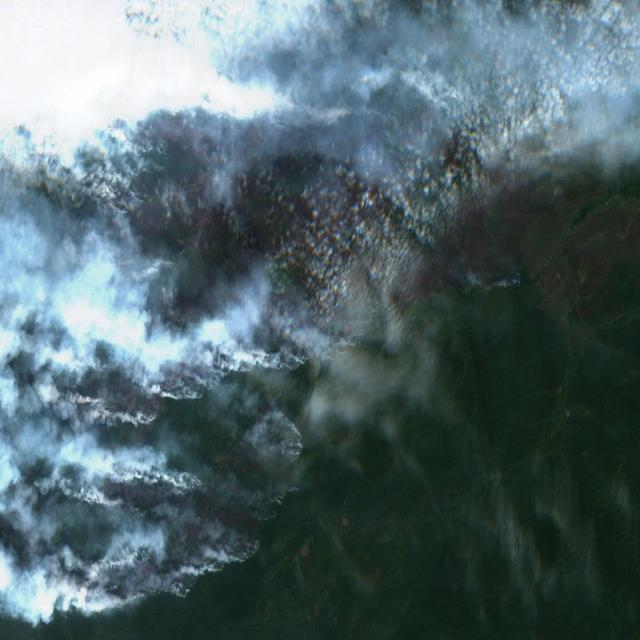fire: (71, 37, 487, 428), (74, 453, 271, 618)
